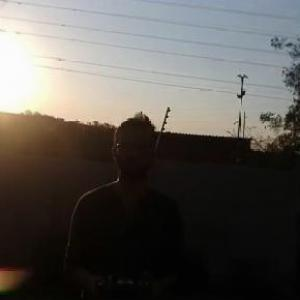follow: (54, 113, 191, 299)
